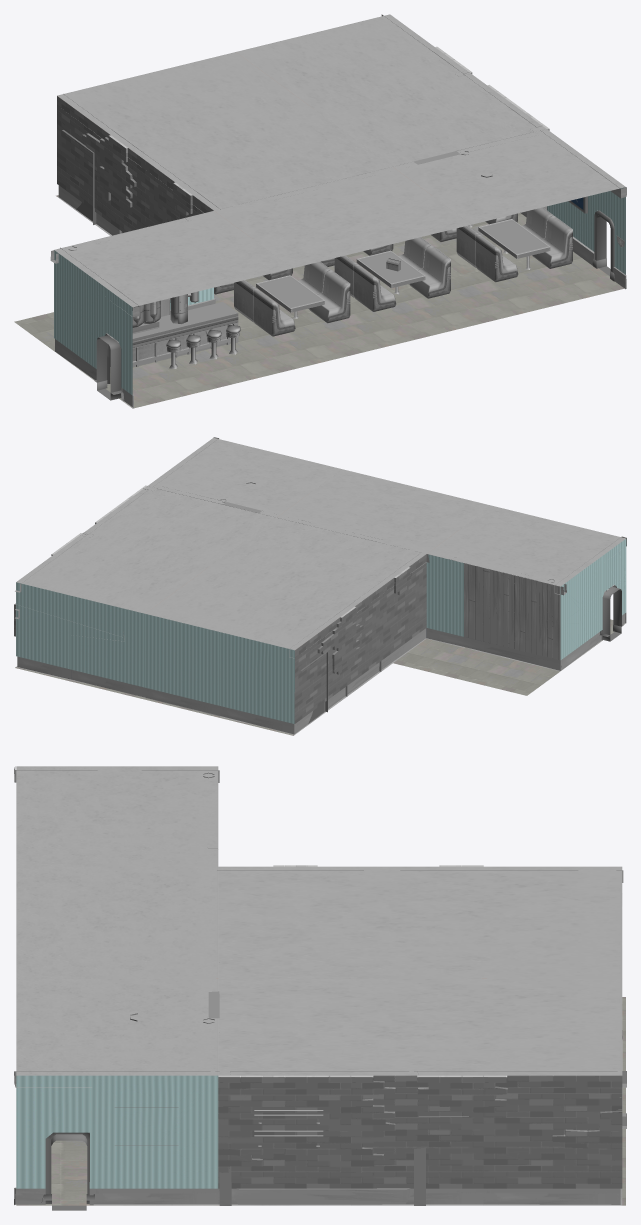
Rendered from MSH_cafeteria_l3_R3_Minutemen_optimized.fbx.
3 views of the same model, one above another, from view 1: azimuth 30°, elevation 25°; view 2: azimuth 150°, elevation 25°; view 3: azimuth 270°, elevation 25° (orthographic). The views are drawn at different scales.
Parts seen in each view (by area): view 1: lightmap0, lightmap1; view 2: lightmap0, lightmap1; view 3: lightmap0, lightmap1.
Boxes of the visible parts, x1=… form: lightmap0: x1=50, y1=14, x2=626, y2=408; lightmap1: x1=14, y1=195, x2=624, y2=408; lightmap0: x1=14, y1=437, x2=626, y2=734; lightmap1: x1=15, y1=619, x2=625, y2=735; lightmap0: x1=14, y1=766, x2=626, y2=1210; lightmap1: x1=16, y1=997, x2=625, y2=1205.
Size of the model in its own units: 30.91 by 5.94 by 25.07.
11 materials, 10 textured.
